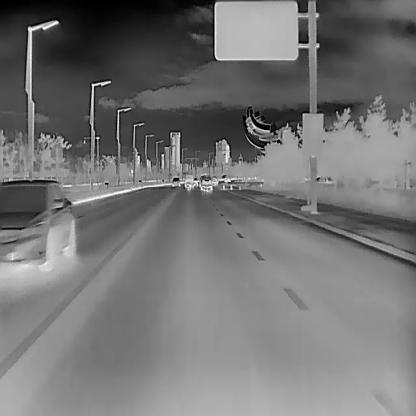car: (0, 178, 74, 273), (200, 175, 212, 191), (184, 174, 193, 188), (172, 176, 180, 186)
